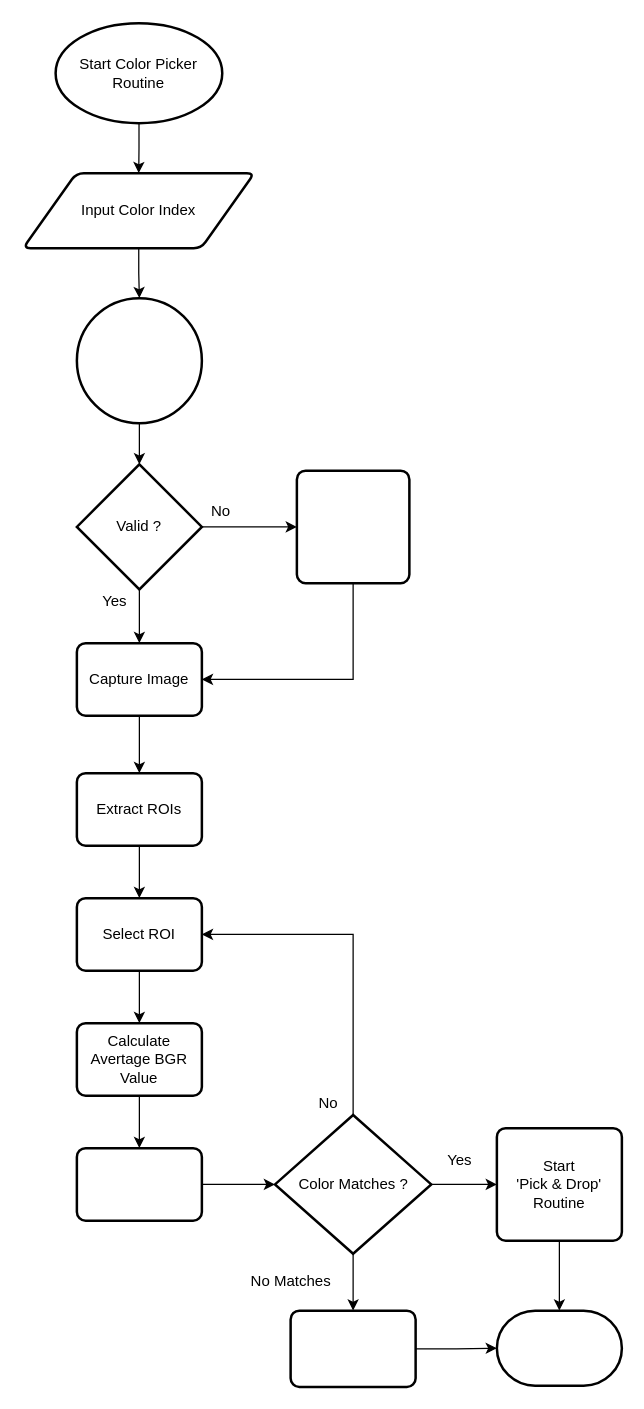
The diagram is 644 pixels wide and 1409 high, and some of its shapes have lost their labels. The shapes that lost their labels are listed below. From the top down, each one's centre as x and y in pixels, then its label:
At (138,360): "Check Input Validity".
At (352,526): "Use Default Color Index".
At (138,1183): "Compare With Selected Color".
At (352,1348): "Warn for no matches".
At (558,1347): "End Routine".
